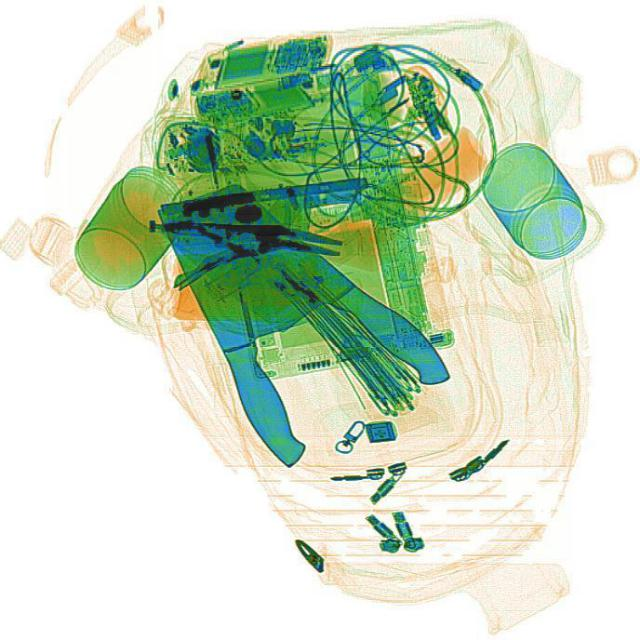Knife: (152, 161, 456, 433), (153, 174, 361, 471)
